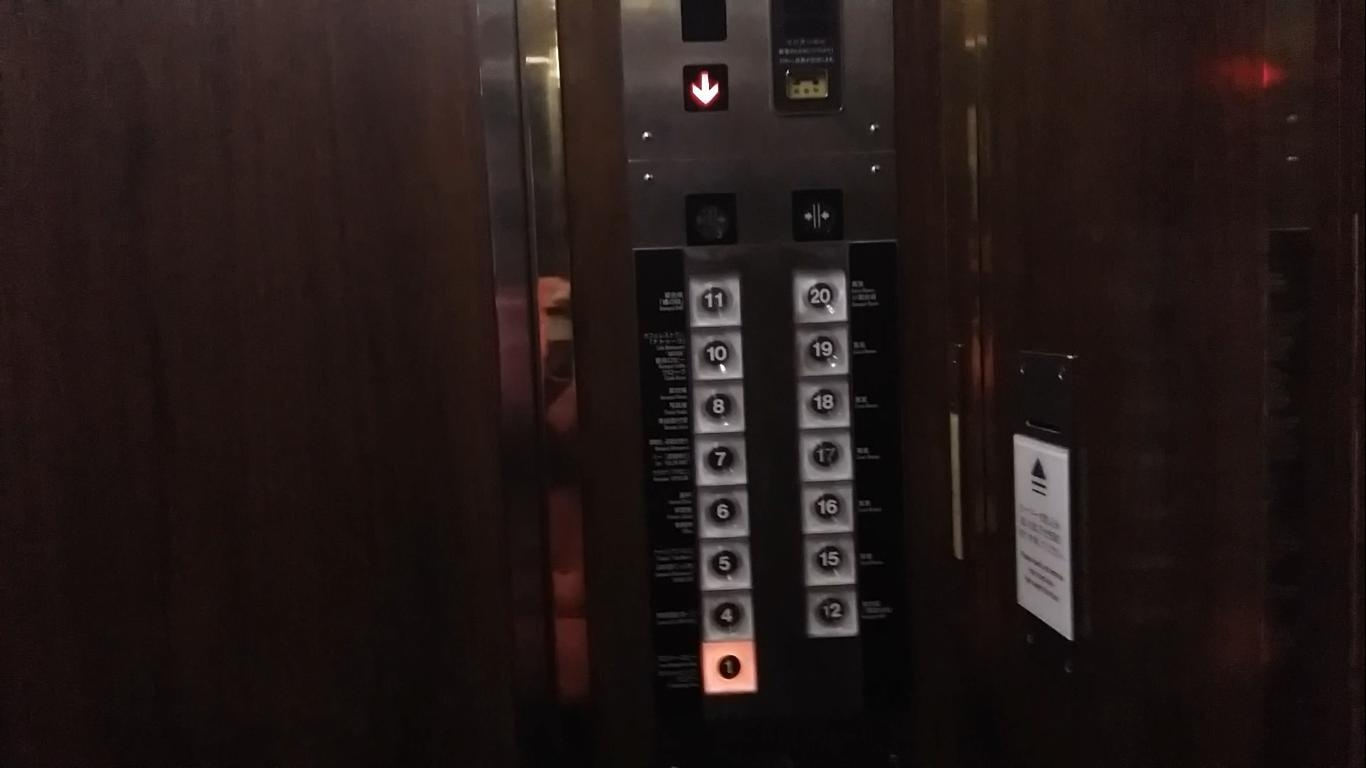1: (700, 640, 757, 695)
10: (688, 327, 743, 380)
11: (686, 272, 742, 328)
12: (806, 586, 858, 637)
15: (804, 532, 855, 585)
16: (801, 480, 854, 534)
17: (797, 428, 854, 481)
18: (795, 376, 852, 429)
19: (793, 323, 850, 375)
20: (792, 267, 848, 324)
4: (700, 590, 755, 640)
5: (697, 539, 752, 590)
6: (696, 486, 749, 540)
7: (692, 432, 747, 486)
8: (689, 379, 744, 432)
blur: (683, 191, 738, 248)
call: (784, 66, 832, 100)
close: (788, 187, 845, 242)
